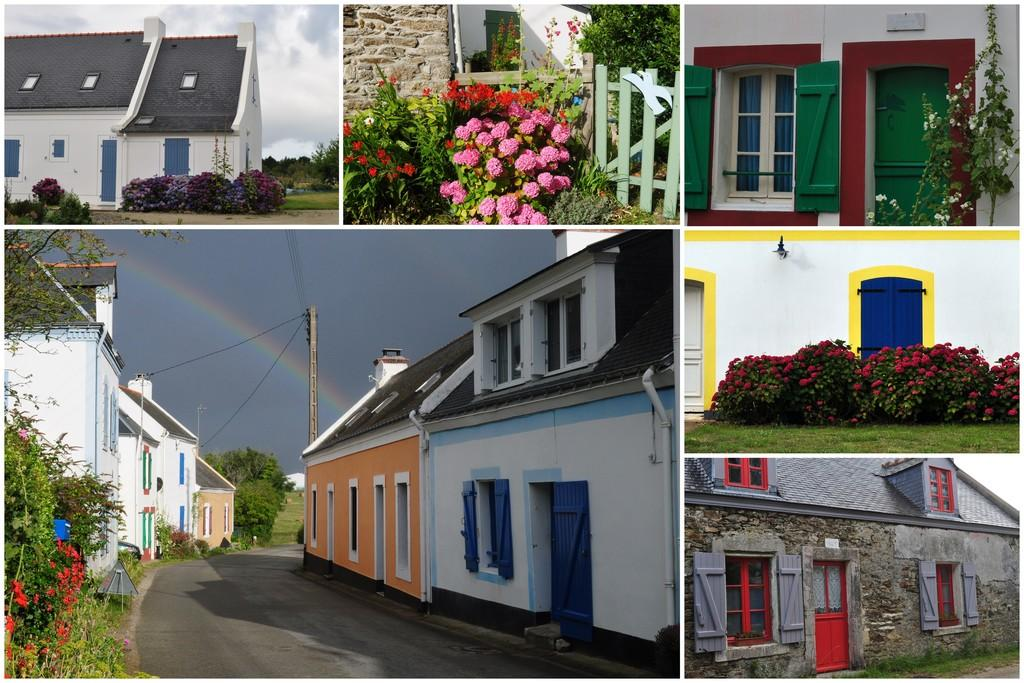handle: (876, 156, 950, 175)
